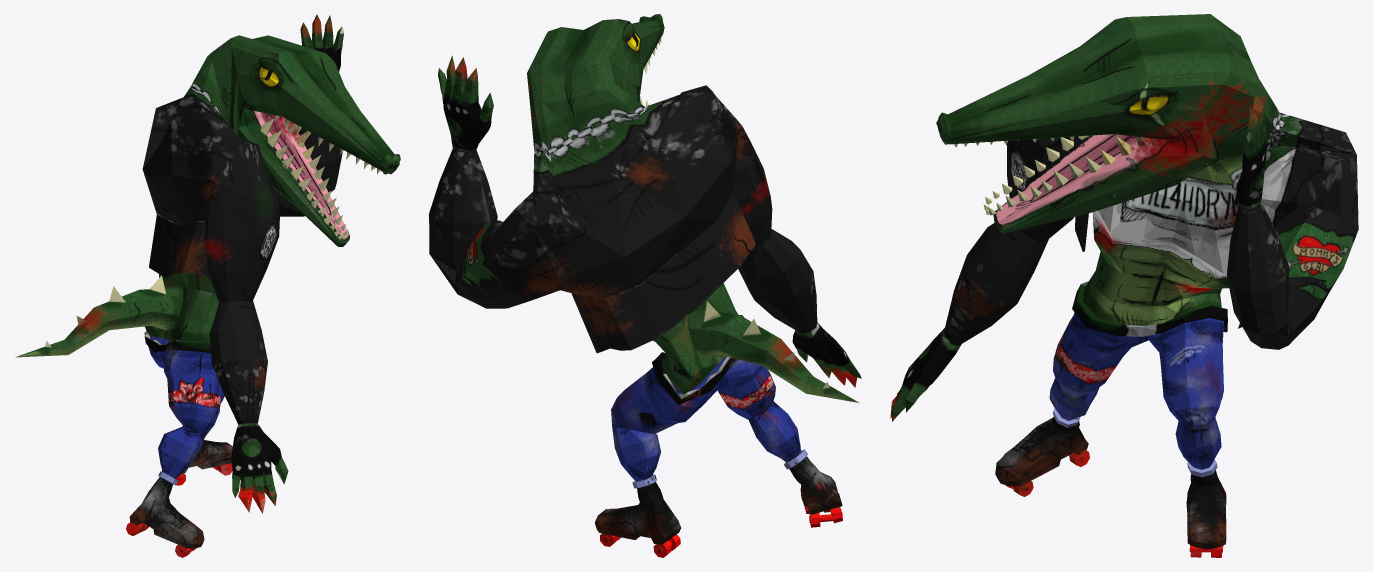
File: cocodrilaBonesSelect_000012.obj
The picture shows the model from 3 angles, left to right: view 1: azimuth 30°, elevation 25°; view 2: azimuth 150°, elevation 25°; view 3: azimuth 270°, elevation 25°; orthographic projection. The views are drawn at different scales.
Visible parts, largest first — view 1: Crocodile.002_Cylinder.002; view 2: Crocodile.002_Cylinder.002; view 3: Crocodile.002_Cylinder.002.
Boxes of the visible parts, x1,y1,x2,y2 form: Crocodile.002_Cylinder.002: (15,14,400,557); Crocodile.002_Cylinder.002: (429,14,861,557); Crocodile.002_Cylinder.002: (890,14,1358,557).
Bounding box in the file's own units: 5.19 × 6.14 × 4.66.
